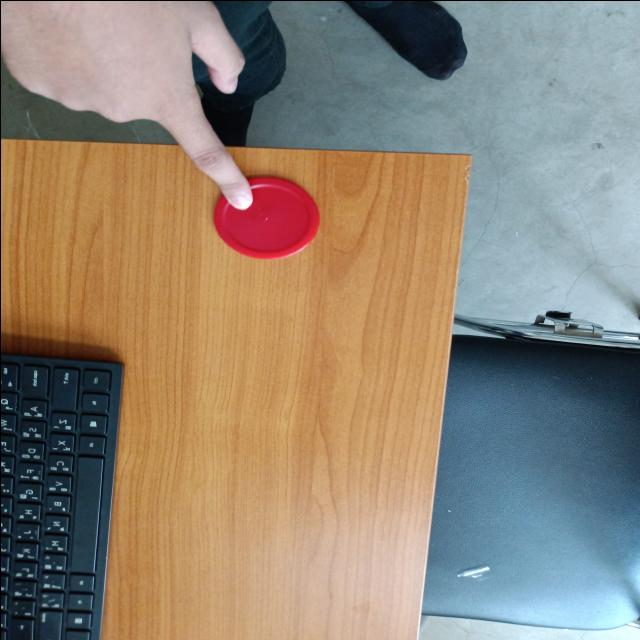chip: (210, 176, 320, 259)
